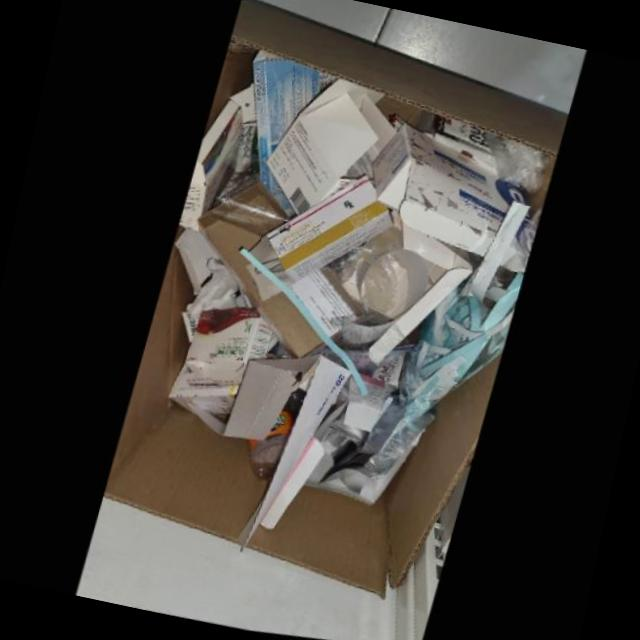carton: (369, 129, 526, 264), (263, 82, 394, 219), (263, 82, 393, 219), (247, 180, 392, 291), (250, 53, 329, 220), (176, 86, 253, 233), (182, 311, 270, 388), (165, 367, 236, 417)
chai_nhua_pet: (244, 414, 291, 487)
giay: (183, 261, 236, 327)
nhom: (316, 407, 431, 500)
